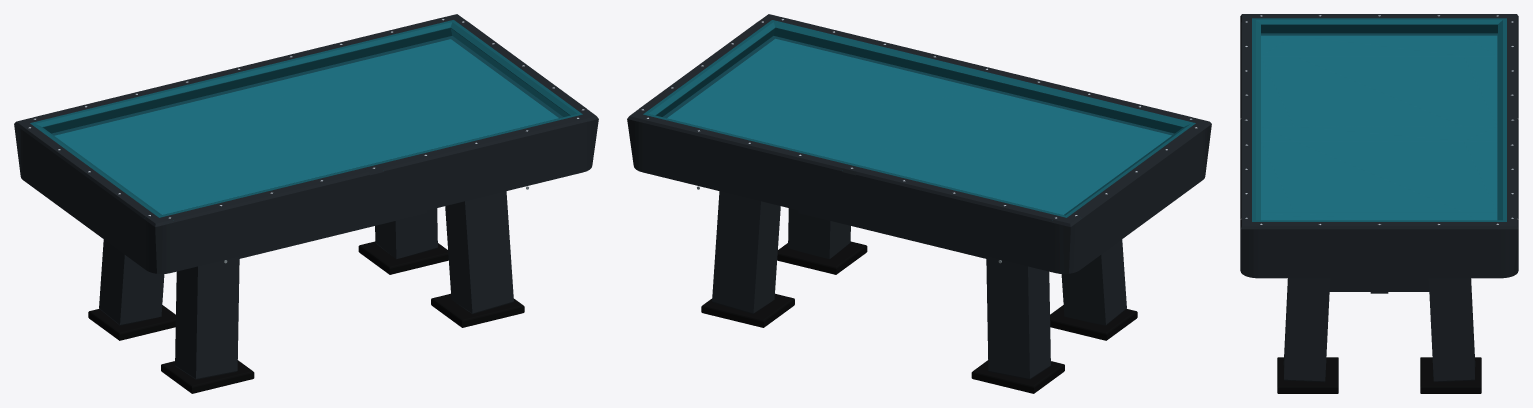
The model's file is table-threecushion-5-american-graphite.glb.
3 renders of one model, left to right at view 1: azimuth 30°, elevation 25°; view 2: azimuth 150°, elevation 25°; view 3: azimuth 270°, elevation 25°, orthographic.
Parts seen in each view (by area): view 1: table-threecushion-5-american-graphite, break-builder-table-support; view 2: table-threecushion-5-american-graphite, break-builder-table-support; view 3: table-threecushion-5-american-graphite, break-builder-table-support.
Part boxes in pixels (left/top/right/bottom): table-threecushion-5-american-graphite: left=14, top=14, right=598, bottom=273; break-builder-table-support: left=88, top=191, right=524, bottom=393; table-threecushion-5-american-graphite: left=627, top=14, right=1211, bottom=273; break-builder-table-support: left=701, top=191, right=1137, bottom=393; table-threecushion-5-american-graphite: left=1240, top=14, right=1518, bottom=278; break-builder-table-support: left=1277, top=278, right=1481, bottom=393.
Size of the model in its own units: 1.68 by 0.7156 by 0.9236.
Materials: 21 (1 with a texture image).
